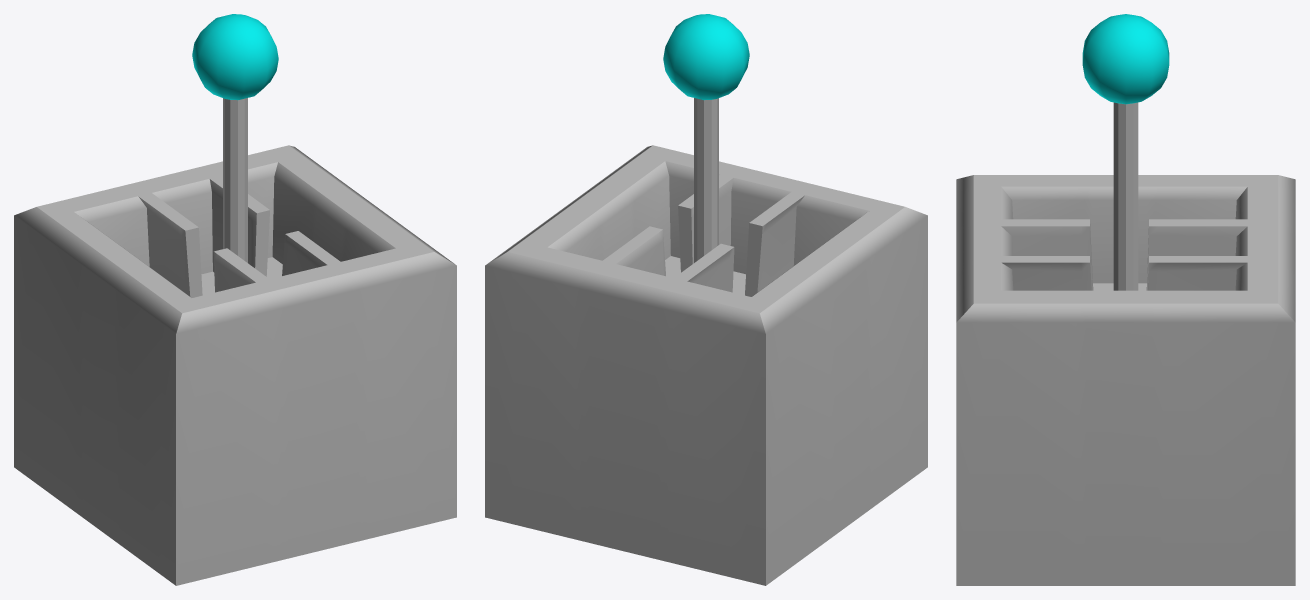
File: Gear.fbx
The picture shows the model from 3 angles, left to right: view 1: azimuth 30°, elevation 25°; view 2: azimuth 150°, elevation 25°; view 3: azimuth 270°, elevation 25°; orthographic projection. The views are drawn at different scales.
Visible parts, largest first — view 1: pCube7, pSphere1, pCylinder1; view 2: pCube7, pSphere1, pCylinder1; view 3: pCube7, pSphere1, pCylinder1.
Boxes of the visible parts, box(x1,y1,x2,y2) form: pCube7: box(14, 145, 456, 585); pSphere1: box(192, 14, 278, 100); pCylinder1: box(223, 98, 247, 262); pCube7: box(485, 145, 927, 585); pSphere1: box(663, 14, 749, 100); pCylinder1: box(694, 98, 718, 262); pCube7: box(956, 175, 1295, 585); pSphere1: box(1082, 14, 1169, 104); pCylinder1: box(1113, 102, 1138, 290).
Size of the model in its own units: 2.97 by 4.8 by 2.97.
